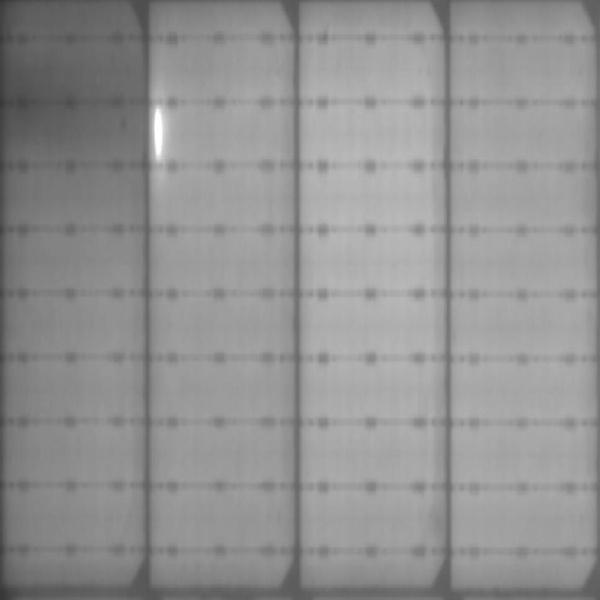hot_spot: (152, 104, 165, 163)
